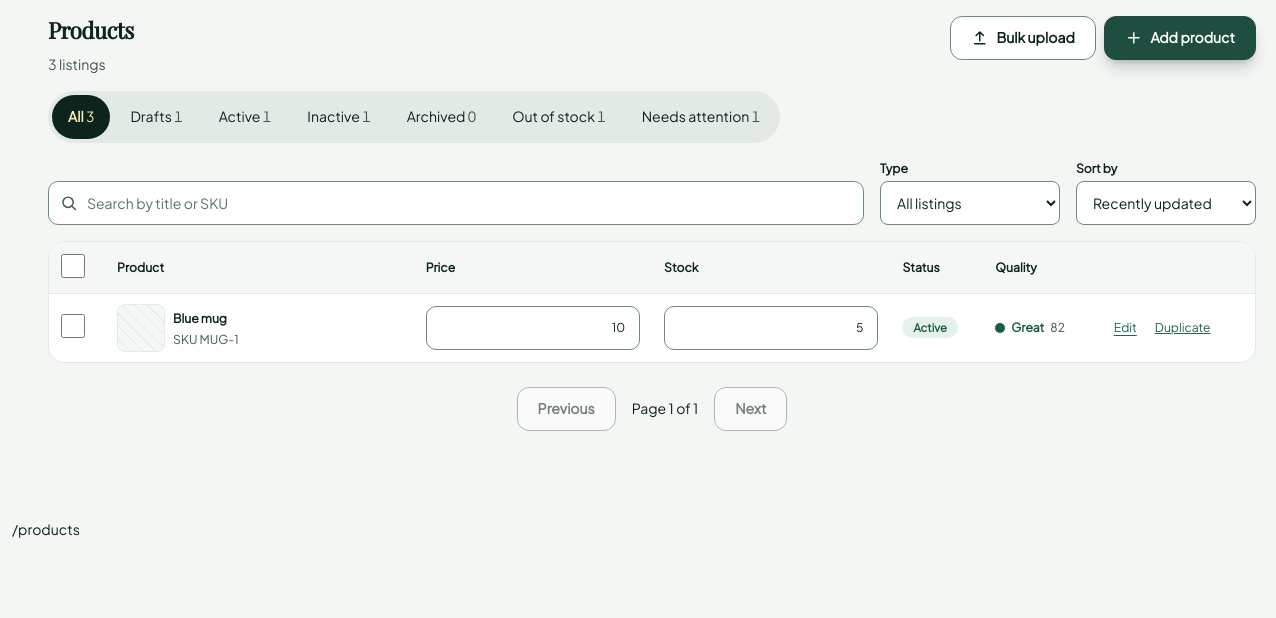
Test case: catalog list › inline quick edit saves the price and reverts with a message when refused
Replace the text in the field named "Price for Blue mug" with "12.5". click: (533, 328)
box: [426,306,640,350]
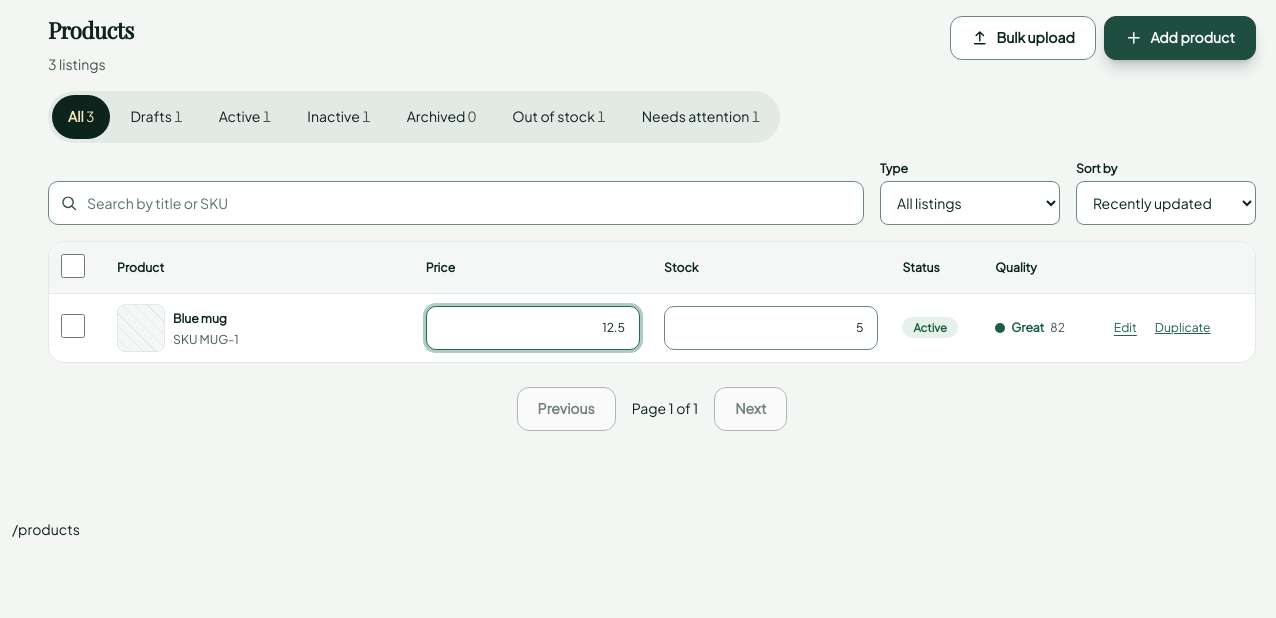
Press Tab
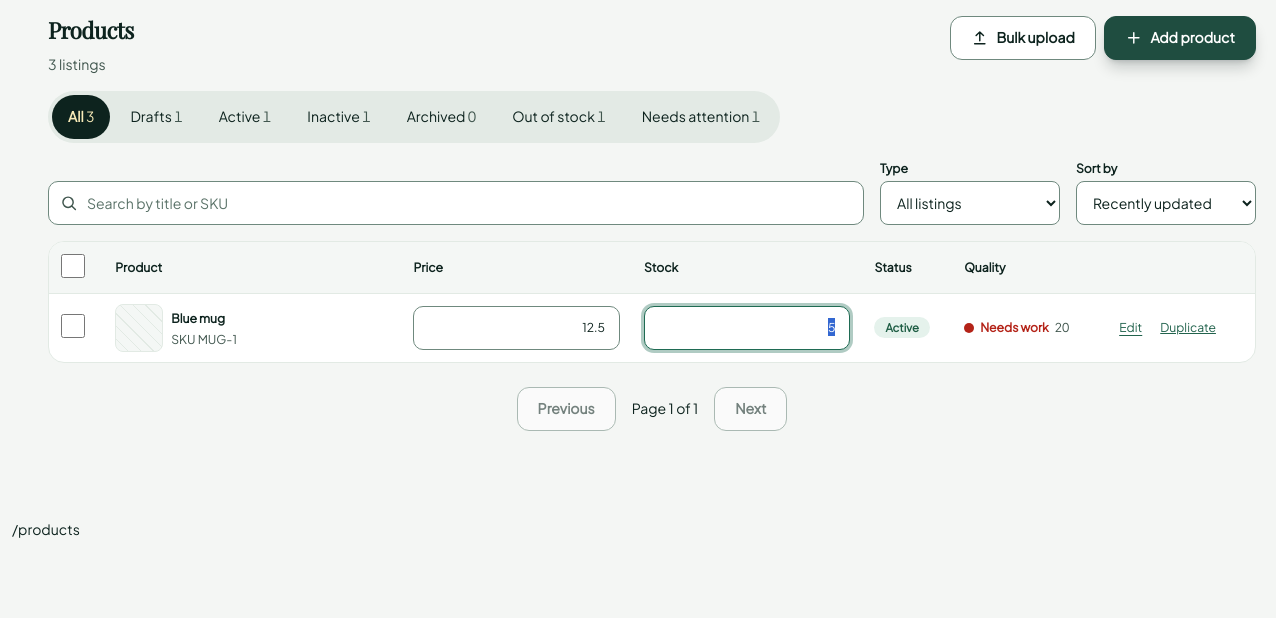
Replace the text in the field named "Price for Blue mug" with "1". click: (517, 328)
box: [414,306,620,350]
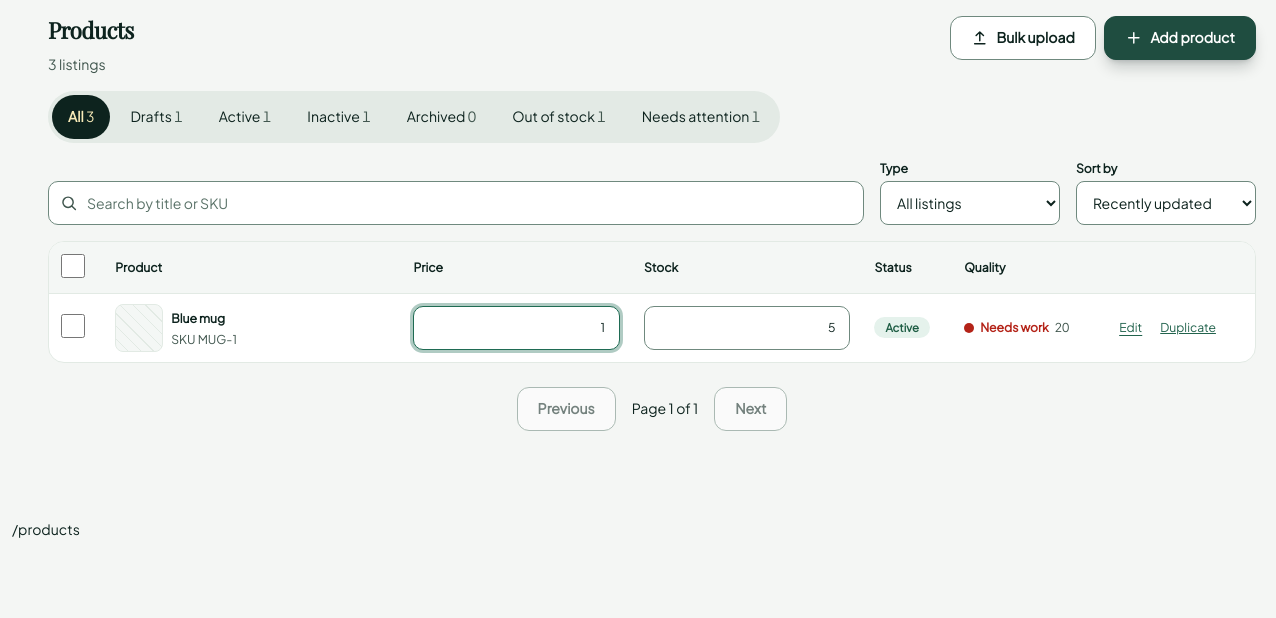
Press Tab
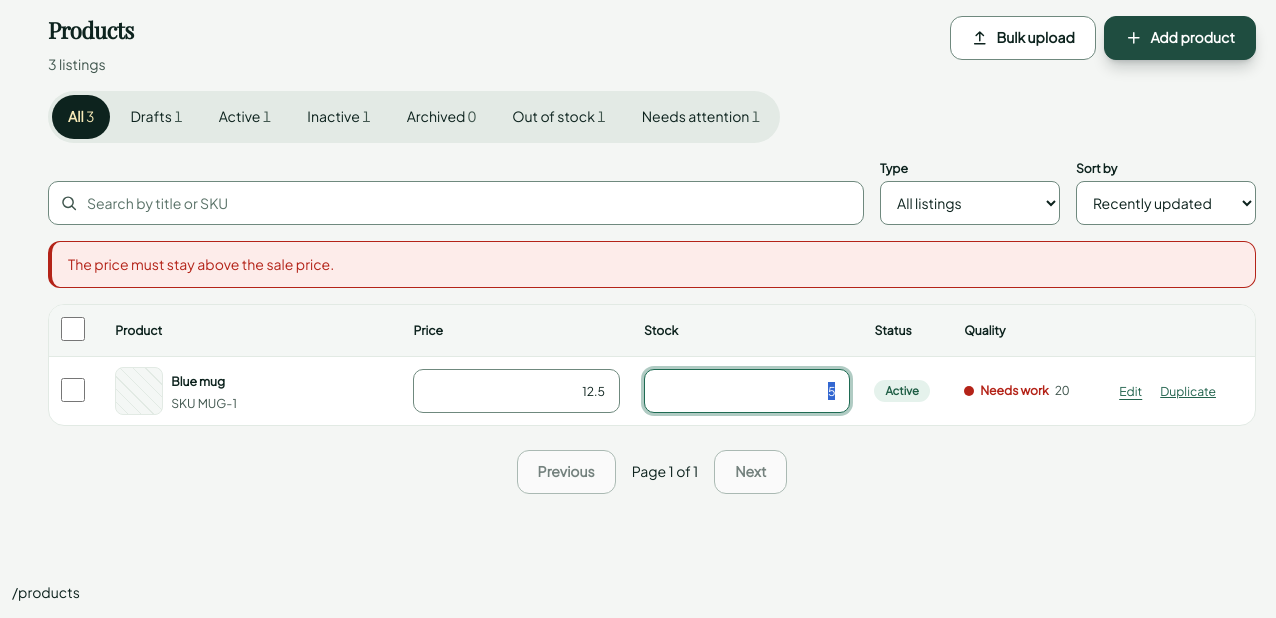
Result: the text "The price must stay above the sale price." is shown at [48,241,1256,288]
